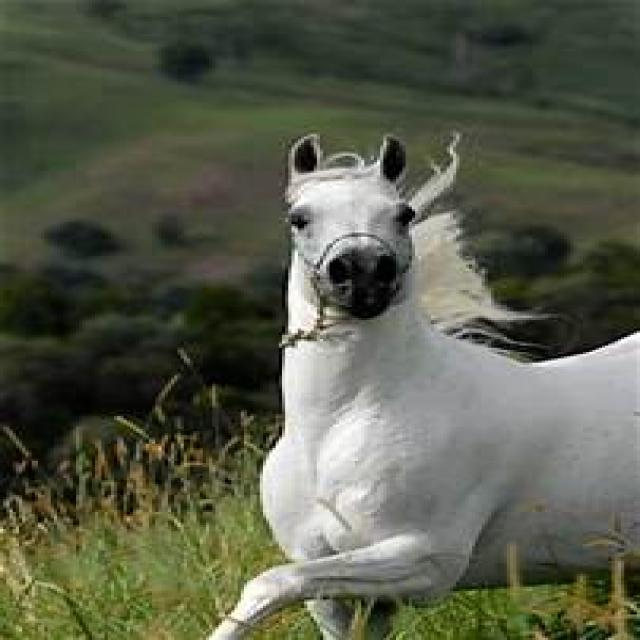horse: (209, 134, 640, 640)
